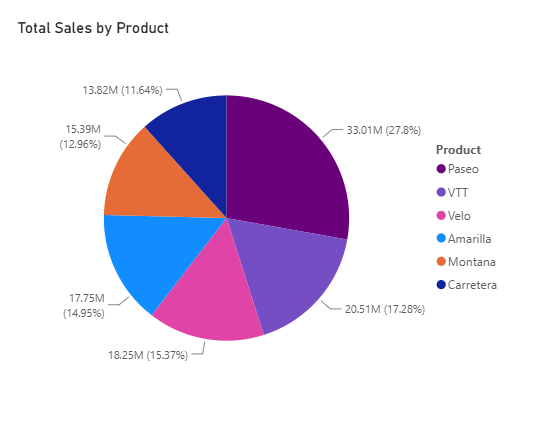

The page's visual inventory and layout, read from the dashboard file:
{"tool":"powerbi","page":{"name":"Page 2","canvas":[1280,720],"ordinal":1},"visuals":[{"type":"pieChart","fields":{"Category":["financials.Product"],"Y":["financials.Total Sales"]},"box":[340.3,149.6,546.1,419.9],"z":0}]}

Visuals, with their boxes on the page's 1280x720 design canvas (x1, y1, x2, y2). These are canvas units, not pixel positions in the 560x447 screenshot, which may show the page scaled, cropped or inside an application window:
pieChart - financials.Product x financials.Total Sales: crop(340, 150, 886, 570)
